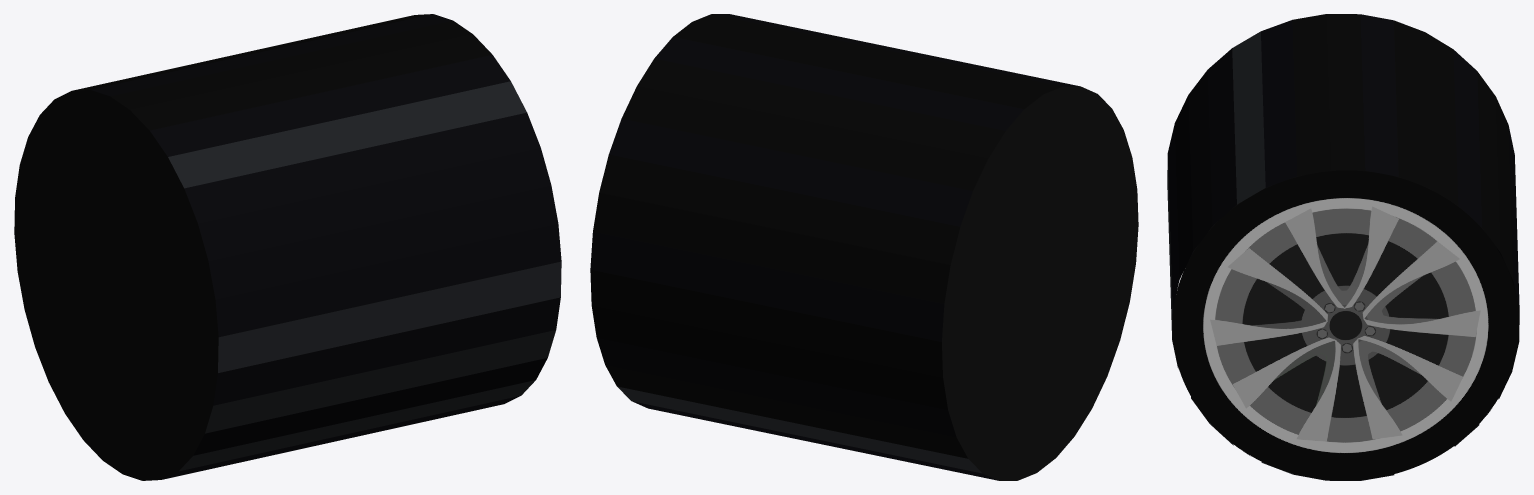
File: wheel.obj
3 renders of one model, left to right at view 1: azimuth 30°, elevation 25°; view 2: azimuth 150°, elevation 25°; view 3: azimuth 270°, elevation 25°, orthographic. The views are drawn at different scales.
Visible parts, largest first — view 1: Cylinder; view 2: Cylinder; view 3: Cylinder.
Part boxes in pixels (x1,y1,x2,y2): Cylinder: [14, 14, 561, 480]; Cylinder: [590, 14, 1138, 480]; Cylinder: [1167, 14, 1519, 480].
Size of the model in its own units: 1.34 by 1.33 by 1.32.
Materials: 5 (2 with a texture image).
